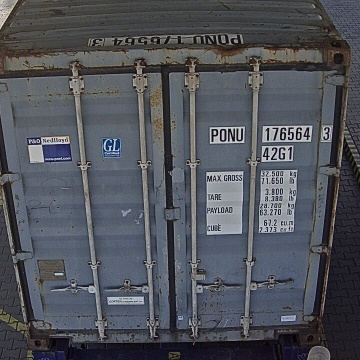serial_id: (210, 127, 332, 142)
